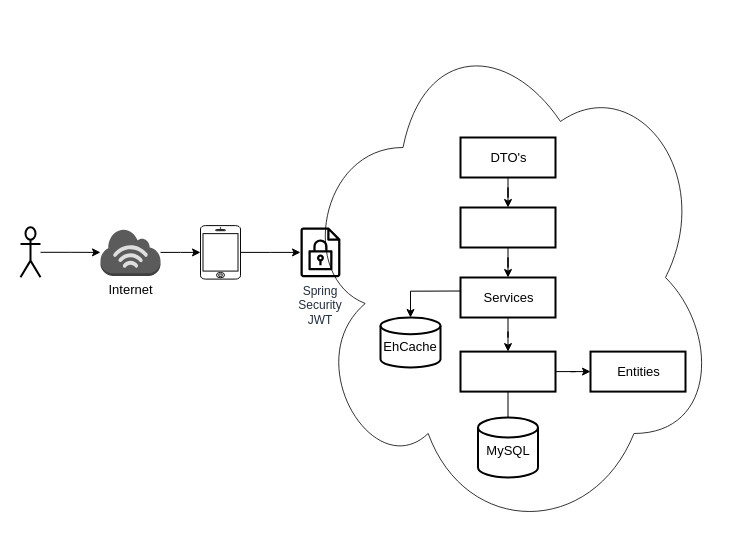
Some shapes in this 736 by 555 pixel diagram are drawn without their labels. Each missing label, with the centre of its shape:
Controllers: (507,227)
JpaRepository: (507,371)
UI: (220,252)
User: (30,252)
